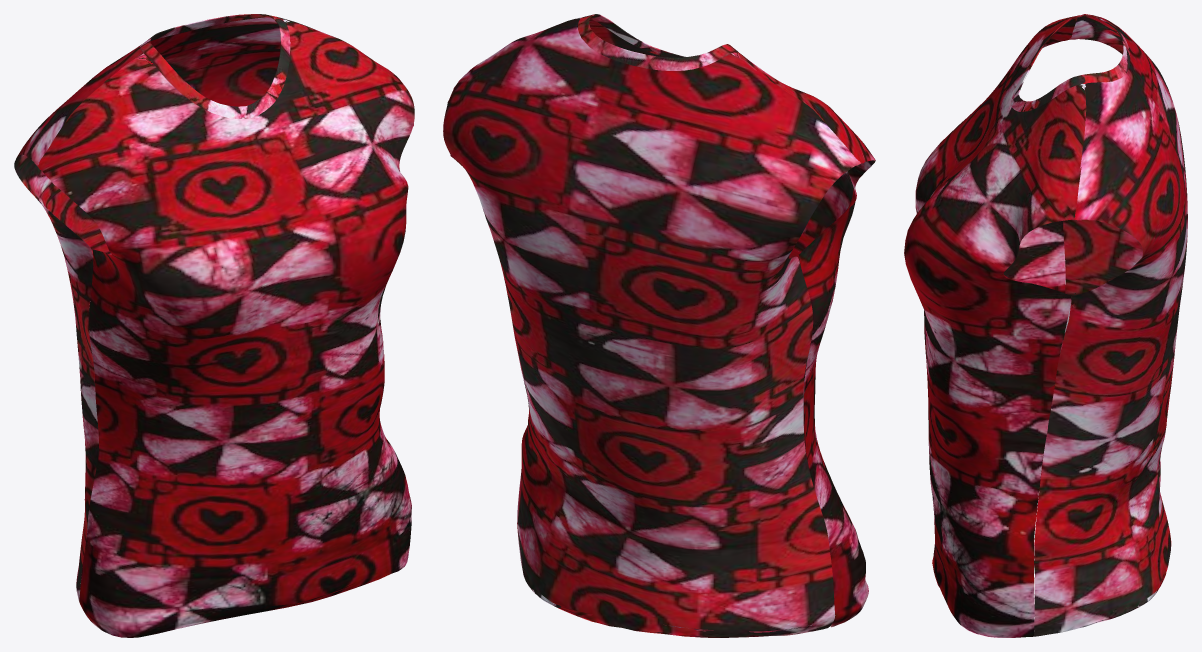
Rendered from sleeve_less_tshirt.glb.
The picture shows the model from 3 angles, left to right: view 1: azimuth 30°, elevation 25°; view 2: azimuth 150°, elevation 25°; view 3: azimuth 270°, elevation 25°; orthographic projection. The views are drawn at different scales.
Parts seen in each view (by area): view 1: all; view 2: all; view 3: all.
Boxes of the visible parts, left/top/right/bottom form: all: left=14, top=14, right=414, bottom=637; all: left=443, top=14, right=875, bottom=637; all: left=904, top=14, right=1187, bottom=637.
Bounding box in the file's own units: 0.4251 × 0.5956 × 0.2882.
1 material, 1 textured.
